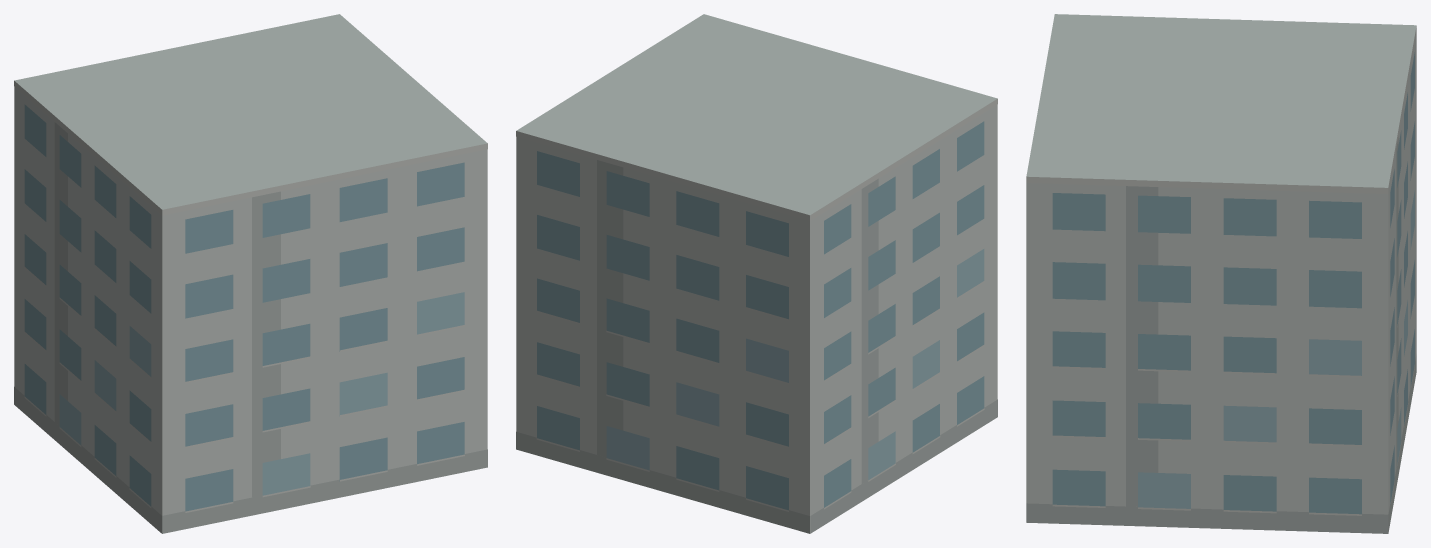
The model's file is survey-upis-32933891.glb.
3 renders of one model, left to right at view 1: azimuth 30°, elevation 25°; view 2: azimuth 150°, elevation 25°; view 3: azimuth 270°, elevation 25°, orthographic. The views are drawn at different scales.
Visible parts, largest first — view 1: survey-upis-32933891.tmp; view 2: survey-upis-32933891.tmp; view 3: survey-upis-32933891.tmp.
Boxes of the visible parts, x1,y1,x2,y2 form: survey-upis-32933891.tmp: (14, 14, 487, 533); survey-upis-32933891.tmp: (516, 14, 997, 533); survey-upis-32933891.tmp: (1026, 14, 1416, 533).
Size of the model in its own units: 14.45 by 13.4 by 13.71.
